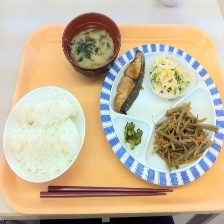rice: (4, 93, 82, 179)
